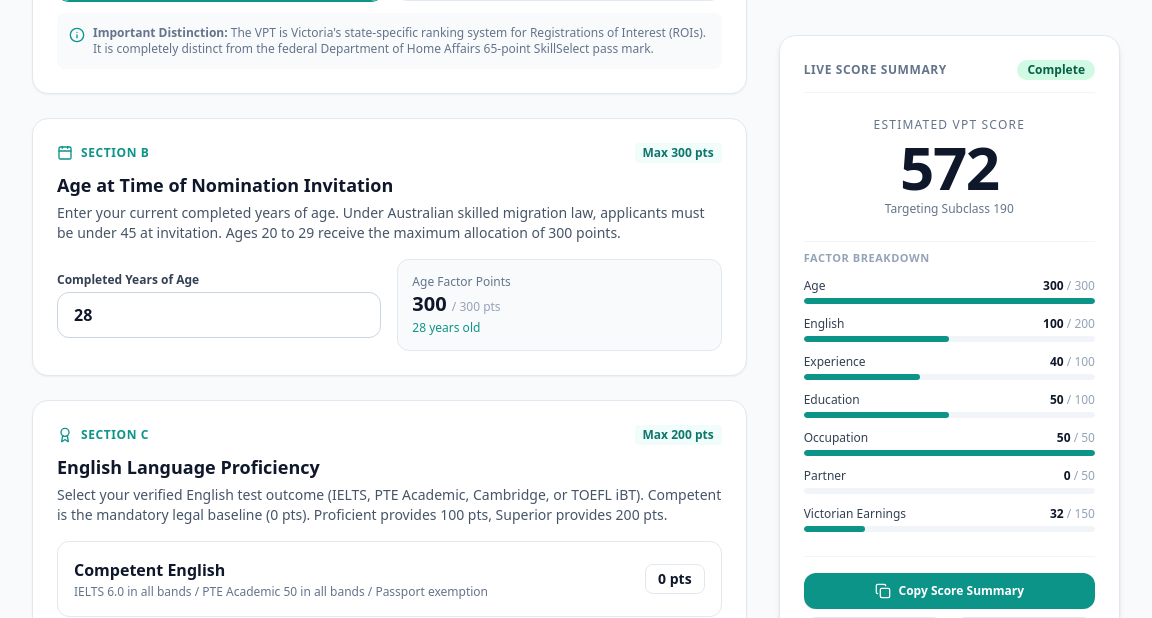
Test case: VptCalculator Component › allows changing age and recalculates score in real-time
(page scrolled)
Change age to 35 (which is 210 points under official table)
Replace the text in the number field labelled "Completed Years of Age" with "35" at (219, 315), box [57, 292, 381, 338]
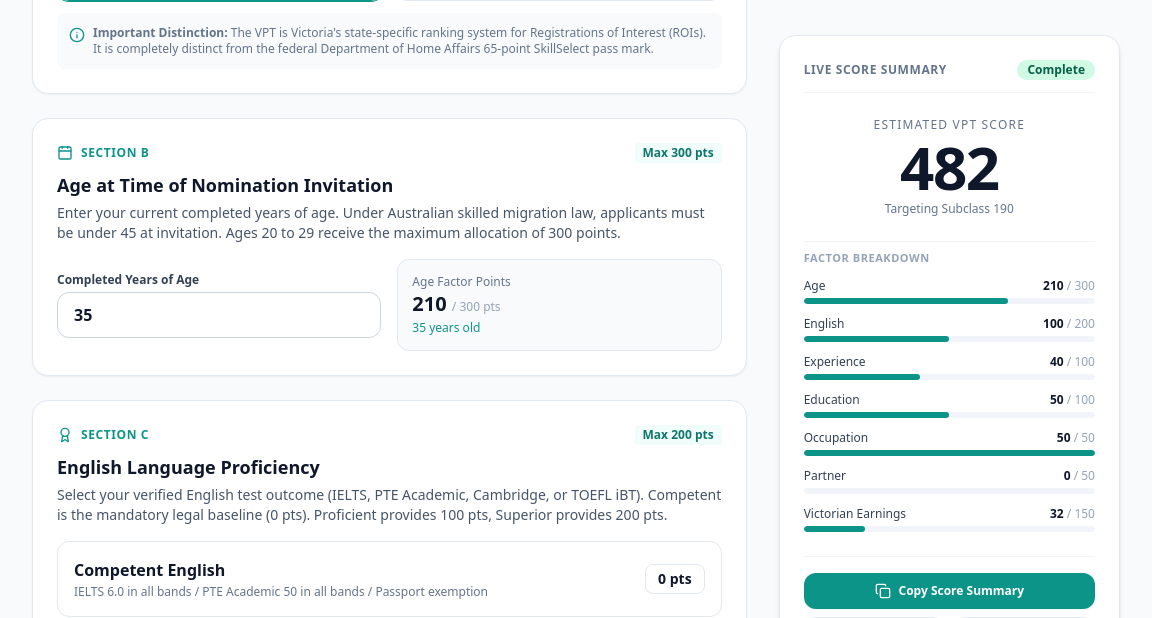
Result: the text "35 years old" is shown at [412, 319, 480, 336]
